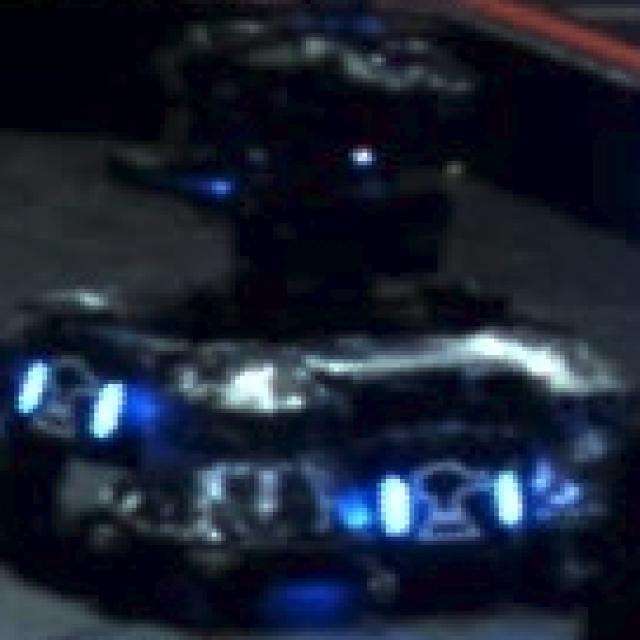Bs: (14, 355, 132, 454), (377, 471, 522, 541)
